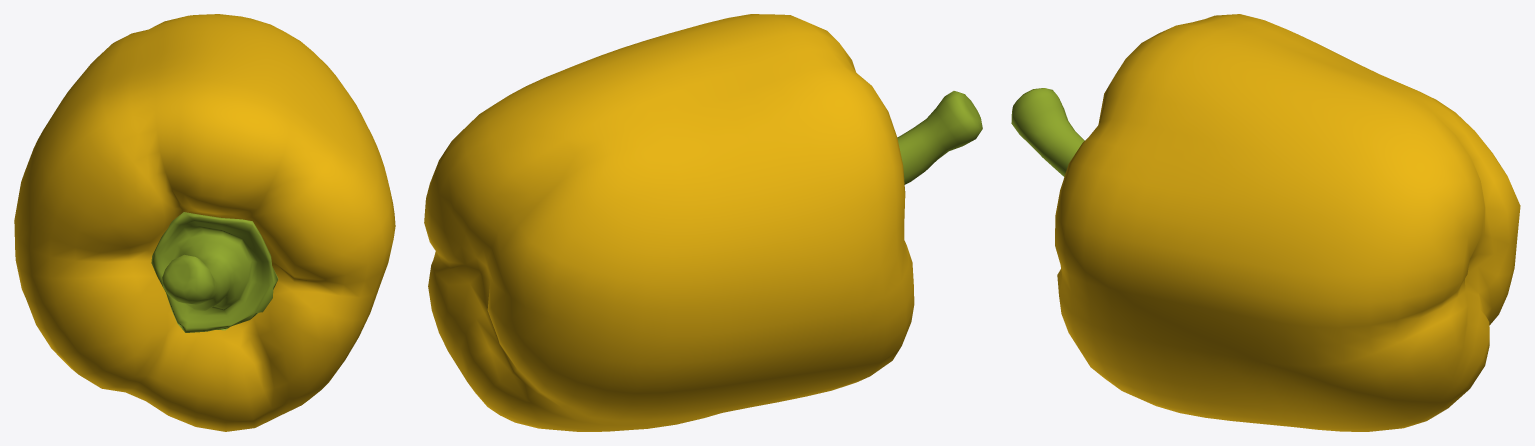
The model's file is BellPepper3.fbx.
3 views of the same model, side by side, from view 1: azimuth 30°, elevation 25°; view 2: azimuth 150°, elevation 25°; view 3: azimuth 270°, elevation 25° (orthographic). The views are drawn at different scales.
Visible parts, largest first — view 1: BellPepper3; view 2: BellPepper3; view 3: BellPepper3.
Boxes of the visible parts, x1=… form: BellPepper3: x1=14, y1=14, x2=395, y2=431; BellPepper3: x1=424, y1=14, x2=982, y2=431; BellPepper3: x1=1011, y1=14, x2=1520, y2=431.
Size of the model in its own units: 0.0439 by 0.0382 by 0.0505.
